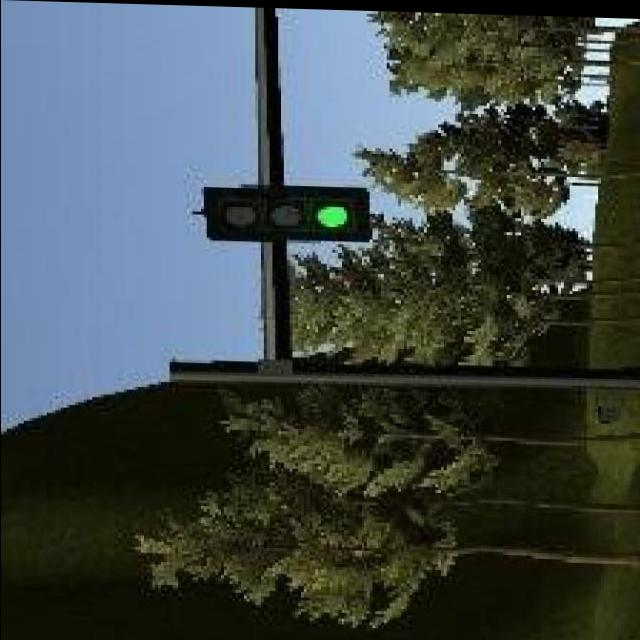green light: (203, 185, 369, 243)
